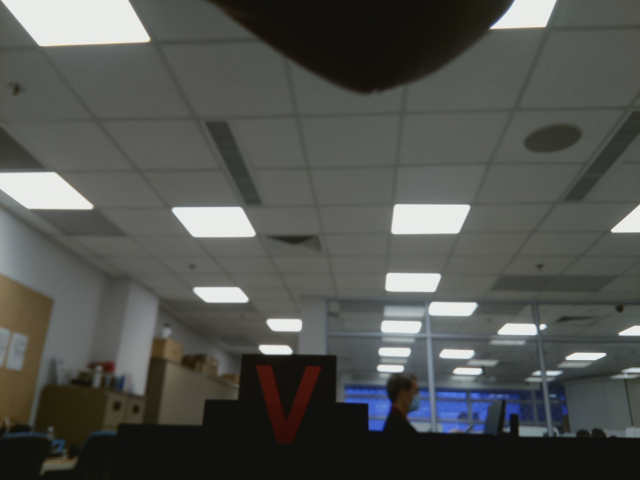v: (250, 357, 322, 452)
